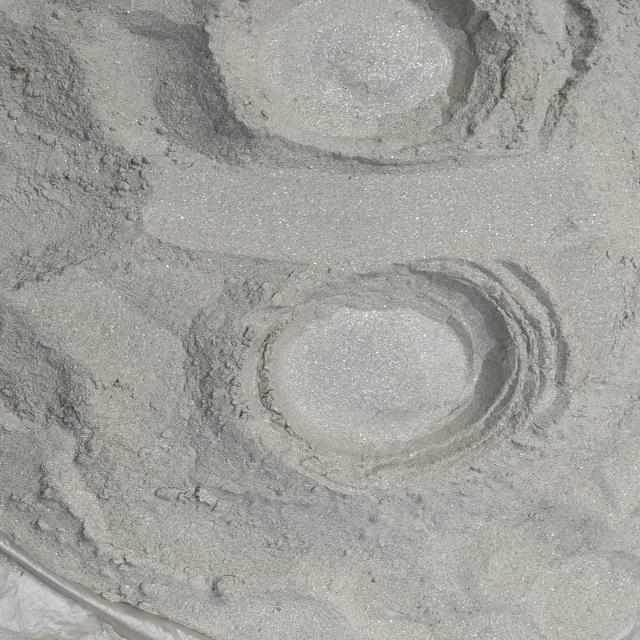C20: (233, 259, 557, 486), (207, 0, 587, 162)
